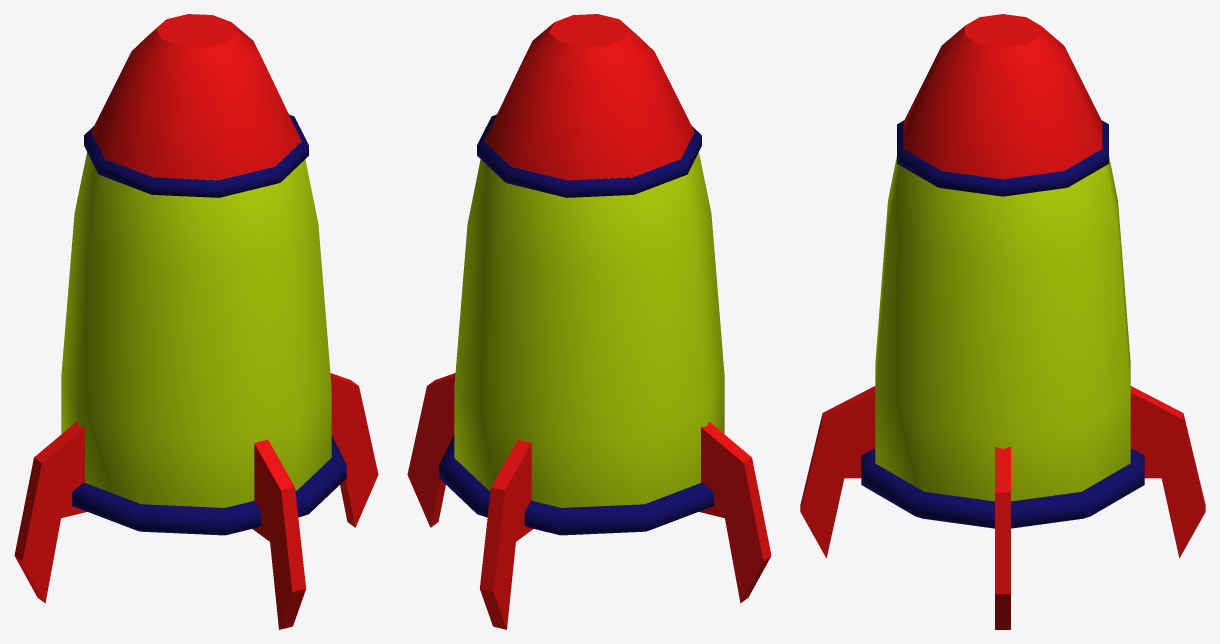
File: Rocket.FBX
3 renders of one model, left to right at view 1: azimuth 30°, elevation 25°; view 2: azimuth 150°, elevation 25°; view 3: azimuth 270°, elevation 25°, orthographic.
Parts seen in each view (by area): view 1: Cylinder001; view 2: Cylinder001; view 3: Cylinder001.
Boxes of the visible parts, left/top/right/bottom form: Cylinder001: left=14, top=14, right=378, bottom=629; Cylinder001: left=407, top=14, right=771, bottom=629; Cylinder001: left=800, top=14, right=1205, bottom=629.
Size of the model in its own units: 35.71 by 51 by 35.71.
